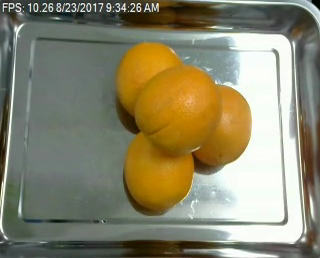Orange: (135, 65, 223, 153), (122, 131, 193, 210), (115, 42, 182, 119), (189, 83, 251, 165)
